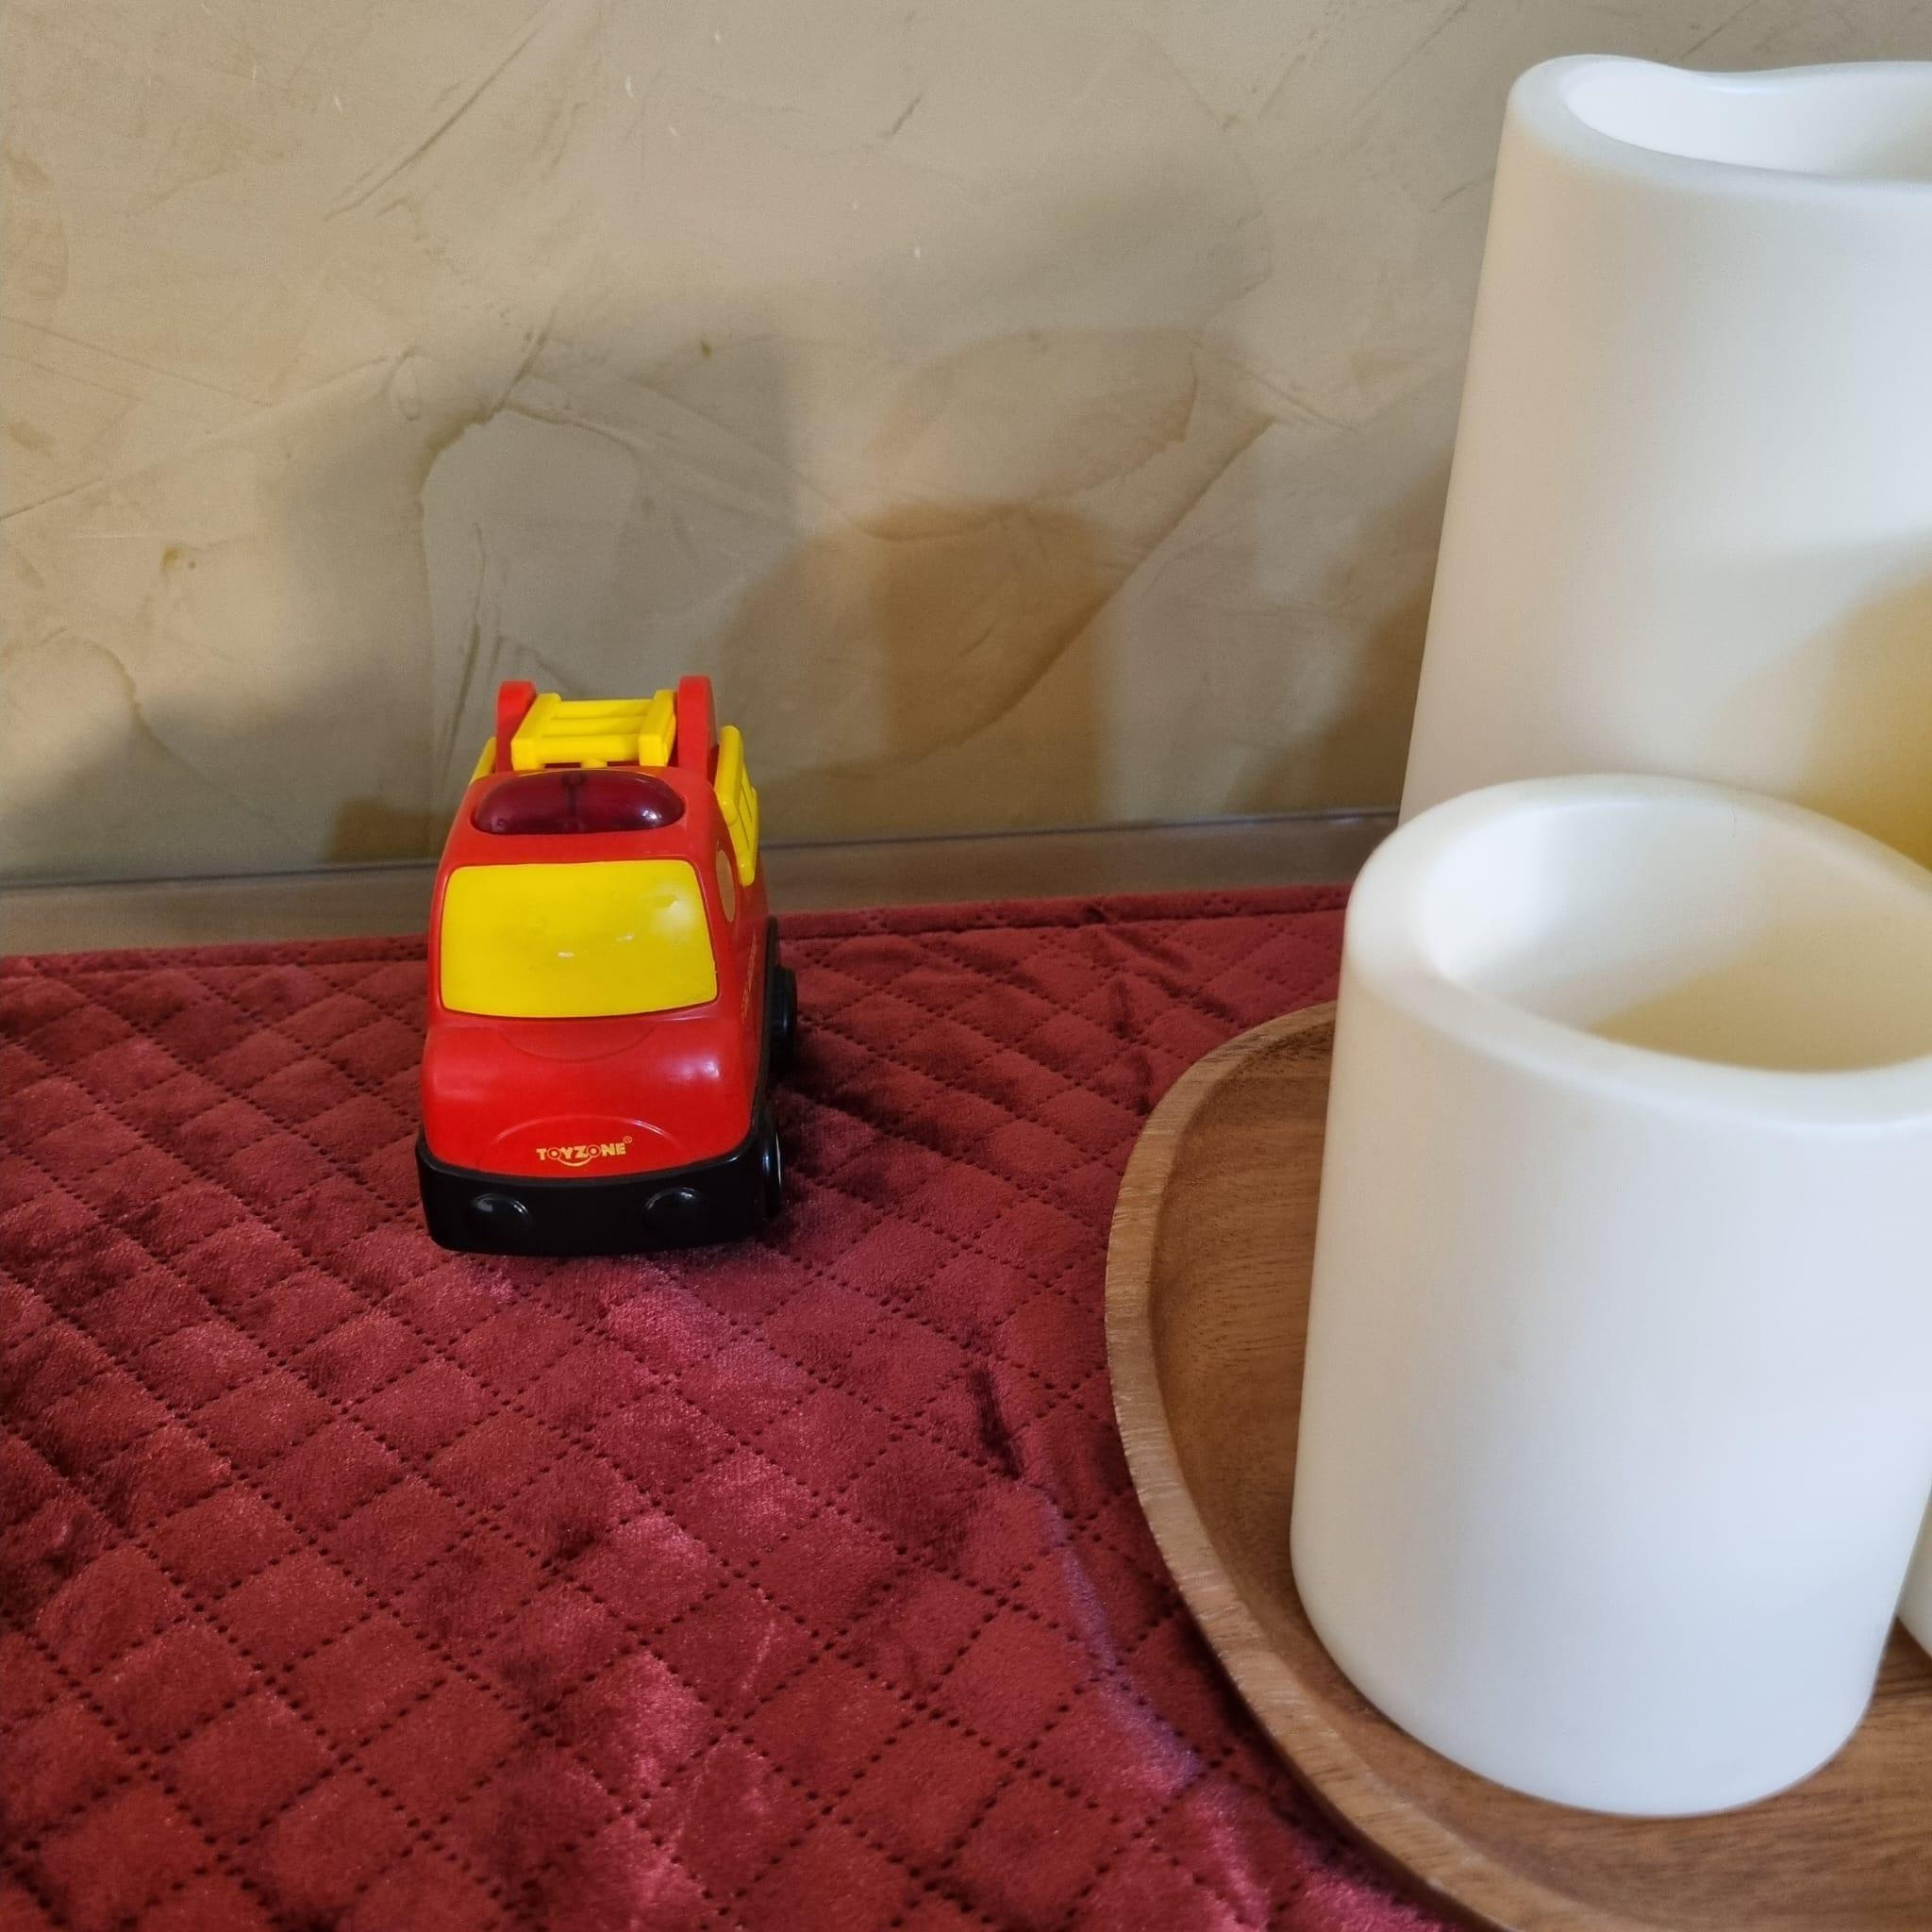firetruck_off: (414, 678, 798, 1253)
